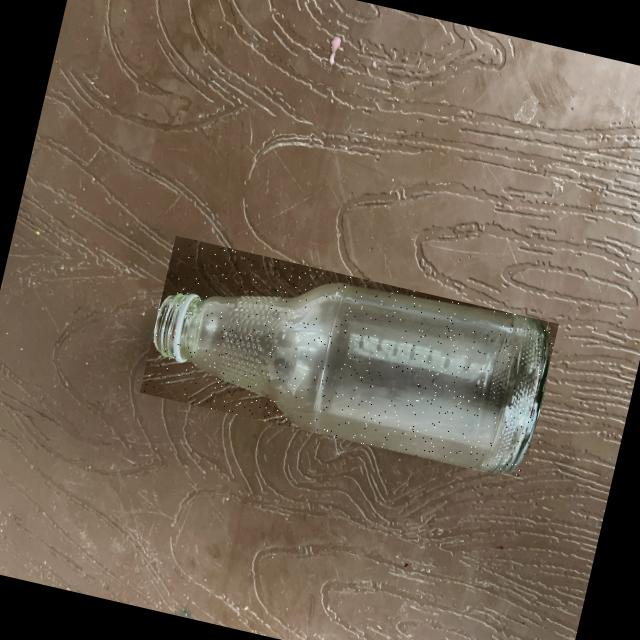Glass_Bottle: (154, 283, 548, 473)
